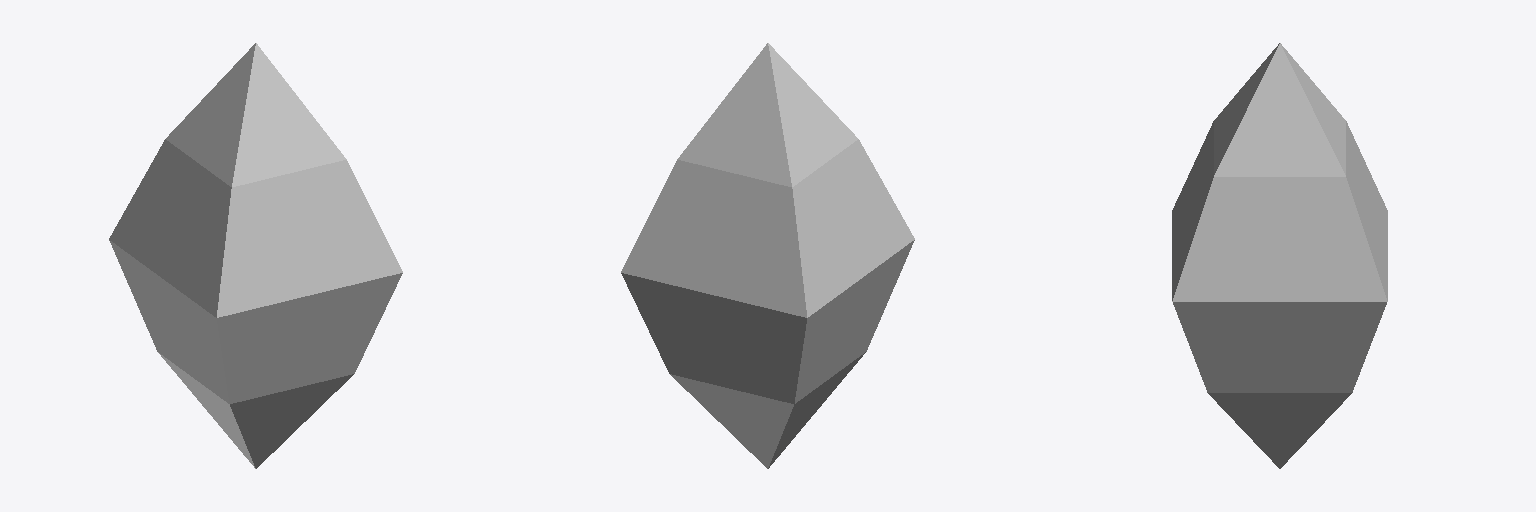
Rendered from fragileCrystal.obj.
3 renders of one model, left to right at view 1: azimuth 30°, elevation 25°; view 2: azimuth 150°, elevation 25°; view 3: azimuth 270°, elevation 25°, orthographic.
Parts seen in each view (by area): view 1: Crystal; view 2: Crystal; view 3: Crystal.
Boxes of the visible parts, <box> form: Crystal: <box>109,43,402,468</box>; Crystal: <box>621,43,914,468</box>; Crystal: <box>1172,43,1387,468</box>.
Bounding box in the file's own units: 2 × 4.37 × 2.